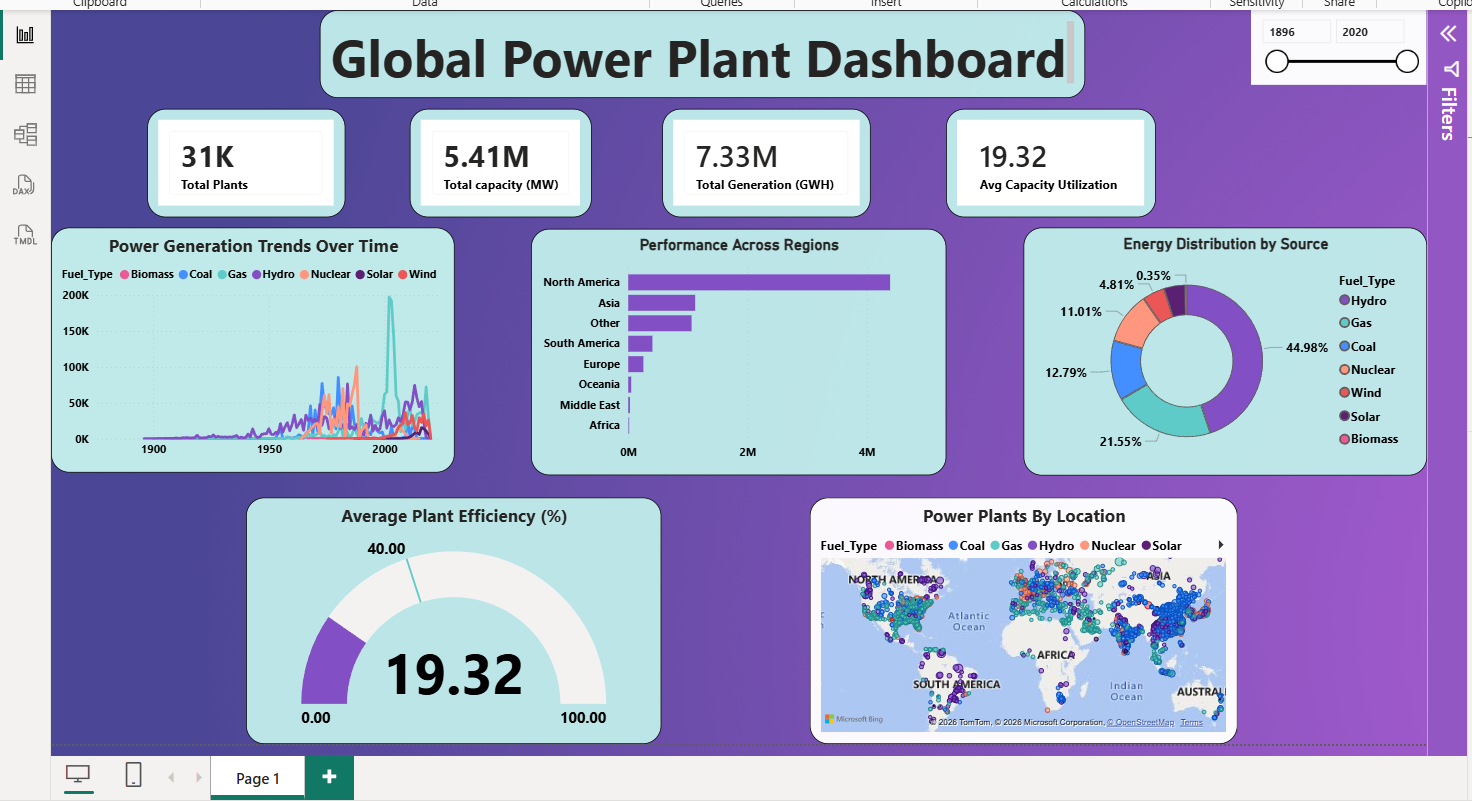

The dashboard page shown, as its layout file describes it:
{"tool":"powerbi","page":{"name":"Page 1","canvas":[1500,800],"ordinal":0},"visuals":[{"type":"textbox","box":[292.9,0,834.3,95.7],"z":0},{"type":"donutChart","title":"Energy Distribution by Source","fields":{"Category":["PowerPlants.Fuel_Type"],"Y":["Sum(PowerPlants.Generation_GWh)"]},"box":[1060,237.1,440,270],"z":1000},{"type":"barChart","title":"Performance Across Regions","fields":{"Category":["PowerPlants.Region"],"Y":["Sum(PowerPlants.Generation_GWh)"]},"box":[522.9,238.6,452.9,268.6],"z":2000},{"type":"lineChart","title":"Power Generation Trends Over Time","fields":{"Category":["PowerPlants.Start_Year"],"Y":["Sum(PowerPlants.Generation_GWh)"],"Series":["PowerPlants.Fuel_Type"]},"box":[0,237.1,440,267.1],"z":3000},{"type":"gauge","title":"Average Plant Efficiency (%)","fields":{"Y":["Avg(PowerPlants.Capacity_Utilization_Pct)"]},"box":[212.9,531.4,452.9,268.6],"z":4000},{"type":"slicer","fields":{"Values":["PowerPlants.Start_Year"]},"box":[1308.4,0,191.6,81.5],"z":5000},{"type":"map","title":"Power Plants By Location","fields":{"Y":["PowerPlants.latitude"],"X":["PowerPlants.longitude"],"Series":["PowerPlants.Fuel_Type"],"Size":["Sum(PowerPlants.Capacity_MW)"]},"box":[827.1,531.4,466,268.4],"z":5001},{"type":"cardVisual","fields":{"Data":["PowerPlants.Total Plants"]},"box":[104.3,107.1,215.7,118.6],"z":5002},{"type":"cardVisual","fields":{"Data":["PowerPlants.Total capacity (MW)"]},"box":[391.4,107.1,198.6,118.6],"z":5003},{"type":"cardVisual","fields":{"Data":["PowerPlants.Total Generation (GWH)"]},"box":[665.7,107.1,227.1,118.6],"z":5004},{"type":"cardVisual","fields":{"Data":["PowerPlants.Avg Capacity Utilization"]},"box":[975.7,107.1,228.6,118.6],"z":5005}]}

Visuals, with their boxes in screenshot pixels (x1, y1, x2, y2):
textbox: <bbox>316, 4, 1094, 93</bbox>
"Energy Distribution by Source" donutChart: <bbox>1032, 225, 1442, 477</bbox>
"Performance Across Regions" barChart: <bbox>530, 227, 953, 477</bbox>
"Power Generation Trends Over Time" lineChart: <bbox>42, 225, 453, 474</bbox>
"Average Plant Efficiency (%)" gauge: <bbox>241, 500, 664, 751</bbox>
slicer - PowerPlants.Start_Year: <bbox>1264, 4, 1442, 80</bbox>
"Power Plants By Location" map: <bbox>814, 500, 1249, 750</bbox>
cardVisual - PowerPlants.Total Plants: <bbox>140, 104, 341, 215</bbox>
cardVisual - PowerPlants.Total capacity (MW): <bbox>408, 104, 593, 215</bbox>
cardVisual - PowerPlants.Total Generation (GWH): <bbox>664, 104, 876, 215</bbox>
cardVisual - PowerPlants.Avg Capacity Utilization: <bbox>953, 104, 1166, 215</bbox>
